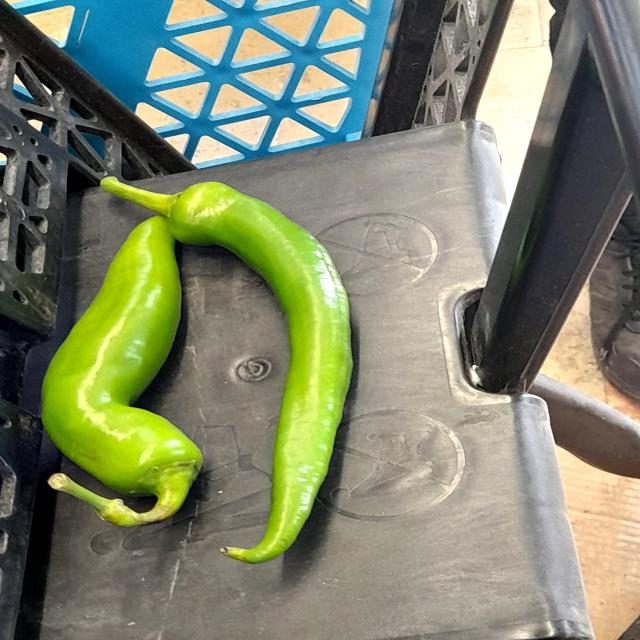green pepper: (145, 173, 361, 562), (36, 200, 209, 538)
